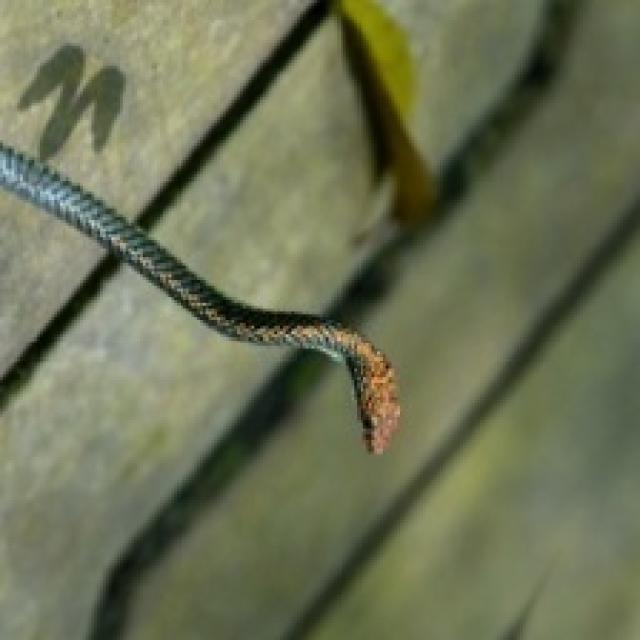paradise tree snake: (0, 143, 397, 451)
